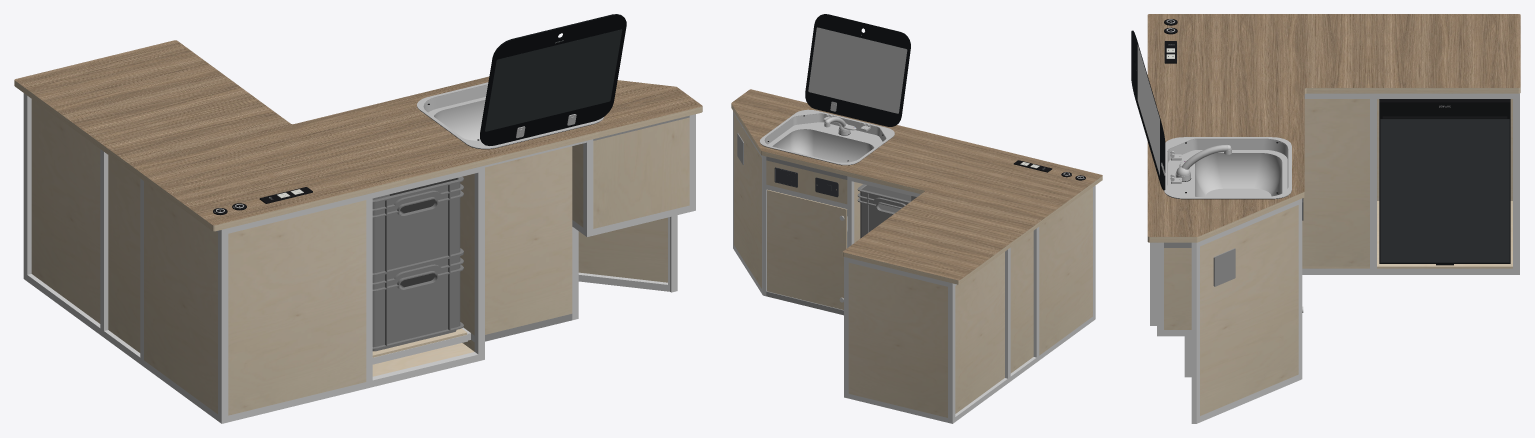
File: aluminum-front-kitchen-birch.glb
3 renders of one model, left to right at view 1: azimuth 30°, elevation 25°; view 2: azimuth 150°, elevation 25°; view 3: azimuth 270°, elevation 25°, orthographic. The views are drawn at different scales.
Parts seen in each view (by area): view 1: Oak top18mm - revised perimeter and original sink cutout_0, Main back wall_1, Sink clearance - pannel (10) - faucet fitting clearance80mm_, Main end wall_1, Fridge back wall_1, Gray ceramic printed field approximation_0, pannel (8)_1, ボディ1 (1)_0, ボディ1_0, Service back wall_1, Black safety glass_0, pannel (4)_0 (+23 smaller); view 2: Oak top18mm - revised perimeter and original sink cutout_0, Driver end outer panel_1, pannel (3)_1, Main end wall_1, Fridge back wall_1, ボディ15 (1)_0, Stainless basin with rear faucet ledge_0, pannel (4)_0, Black safety glass_0, Service back wall_1, ボディ1 (1)_0, Control panel - monitor94x57 and remote73x43_1 (+14 smaller); view 3: Oak top18mm - revised perimeter and original sink cutout_0, Dark gray frameless face_0, pannel (4)_0, Front service closure panel196x535.5_1, Stainless basin with rear faucet ledge_0, Door black surround with full-width recessed handle_0, pannel (6)_0, frame (28)_0, ボディ15 (1)_0, Driver rear corner post20x20_0, Fridge left facade post20x20_0, Black safety glass_0 (+15 smaller).
Boxes of the visible parts, x1,y1,x2,y2 form: Oak top18mm - revised perimeter and original sink cutout_0: (14,40,702,231); Main back wall_1: (228,200,366,415); Sink clearance - pannel (10) - faucet fitting clearance80mm_: (485,146,572,334); Main end wall_1: (144,181,217,413); Fridge back wall_1: (31,99,100,323); Gray ceramic printed field approximation_0: (485,29,622,131); pannel (8)_1: (593,117,689,228); ボディ1 (1)_0: (372,176,463,275); ボディ1_0: (372,253,463,351); Service back wall_1: (108,155,140,352); Black safety glass_0: (480,14,626,145); pannel (4)_0: (578,217,667,282); Oak top18mm - revised perimeter and original sink cutout_0: (731,89,1102,284); Driver end outer panel_1: (848,262,947,417); pannel (3)_1: (767,190,846,309); Main end wall_1: (1039,187,1092,355); Fridge back wall_1: (955,252,1004,413); ボディ15 (1)_0: (808,27,907,113); Stainless basin with rear faucet ledge_0: (760,109,894,165); pannel (4)_0: (734,114,761,288); Black safety glass_0: (805,14,910,126); Service back wall_1: (1010,231,1033,373); ボディ1 (1)_0: (857,184,916,238); Control panel - monitor94x57 and remote73x43_1: (766,160,847,204); Oak top18mm - revised perimeter and original sink cutout_0: (1147,14,1520,242); Dark gray frameless face_0: (1380,119,1509,262); pannel (4)_0: (1200,205,1298,415); Front service closure panel196x535.5_1: (1302,99,1369,266); Stainless basin with rear faucet ledge_0: (1164,137,1291,198); Door black surround with full-width recessed handle_0: (1379,99,1510,263); pannel (6)_0: (1164,248,1191,329); frame (28)_0: (1191,242,1199,423); ボディ15 (1)_0: (1137,45,1159,175); Driver rear corner post20x20_0: (1513,93,1519,274); Fridge left facade post20x20_0: (1370,93,1376,274); Black safety glass_0: (1131,30,1165,190).
Bounding box in the file's own units: 1.53 × 0.9634 × 1.13.
Materials: 28 (4 with a texture image).
